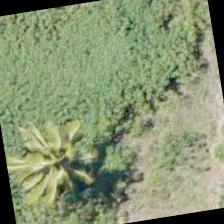Kelapa_Sawit: (5, 104, 108, 208)
